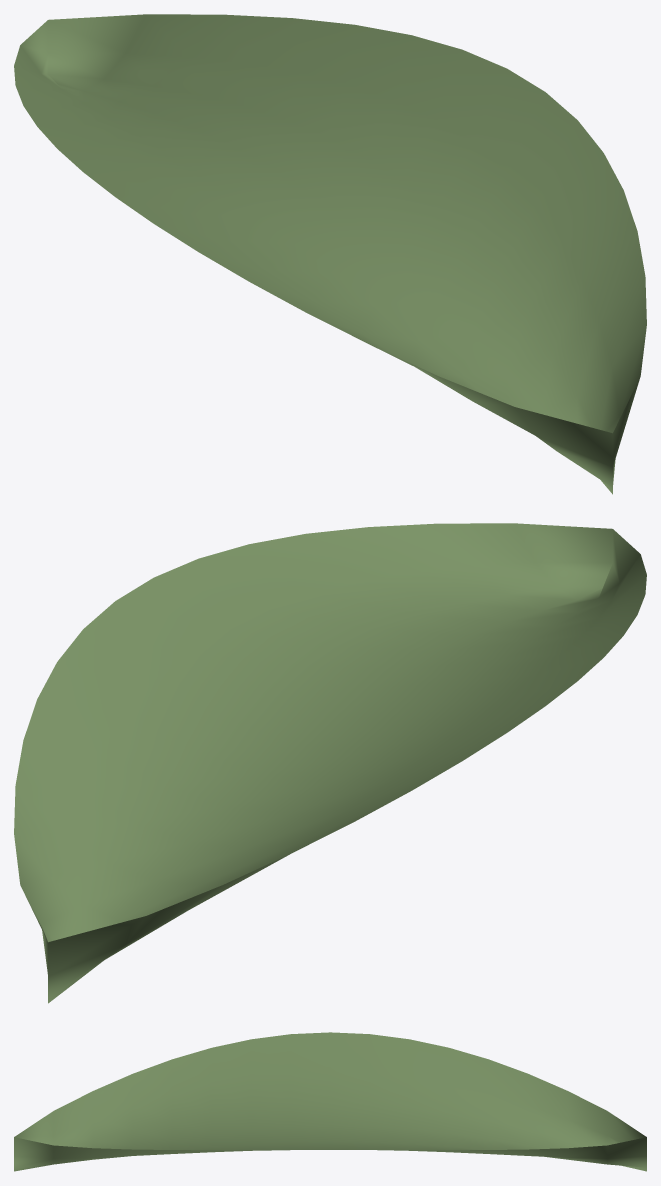
File: leaf.glb
The picture shows the model from 3 angles, top to bottom: view 1: azimuth 30°, elevation 25°; view 2: azimuth 150°, elevation 25°; view 3: azimuth 270°, elevation 25°; orthographic projection. The views are drawn at different scales.
Visible parts, largest first — view 1: Leaf; view 2: Leaf; view 3: Leaf.
Boxes of the visible parts, bbox=[...] form: Leaf: bbox=[14, 14, 646, 494]; Leaf: bbox=[14, 523, 646, 1003]; Leaf: bbox=[14, 1032, 646, 1171].
Size of the model in its own units: 0.44 by 0.14 by 1.
